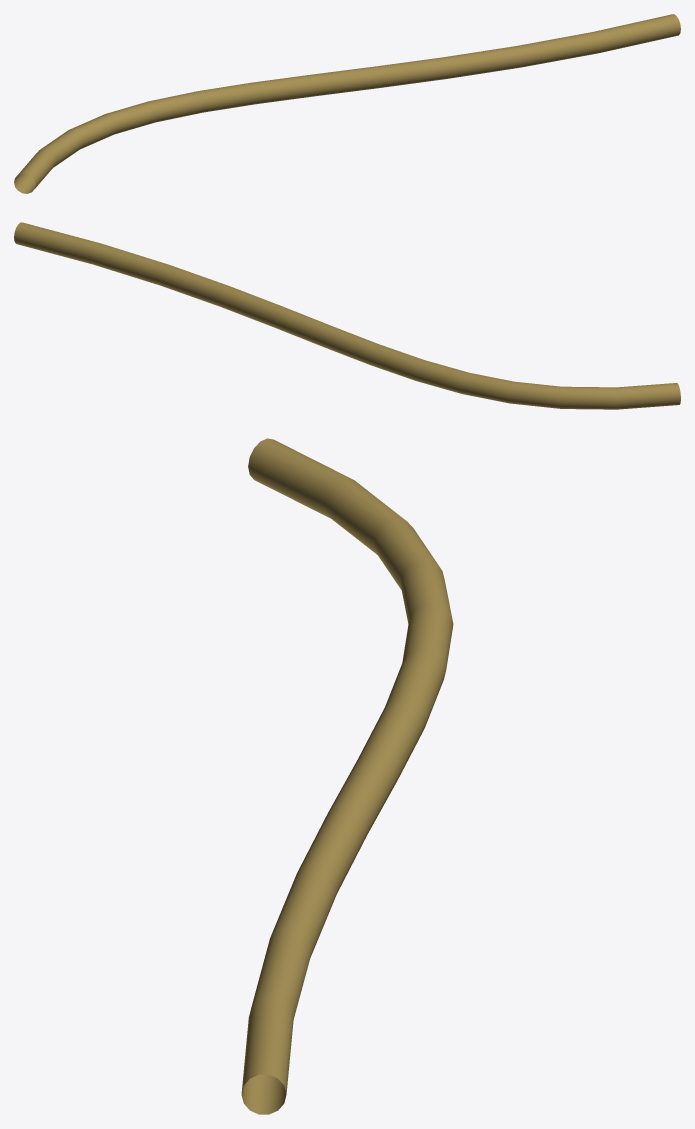
File: Driedbbanana1.fbx
3 renders of one model, top to bottom at view 1: azimuth 30°, elevation 25°; view 2: azimuth 150°, elevation 25°; view 3: azimuth 270°, elevation 25°, orthographic. The views are drawn at different scales.
Parts seen in each view (by area): view 1: BézierCurve; view 2: BézierCurve; view 3: BézierCurve.
Part boxes in pixels (box(x1,y1,x2,y2)): BézierCurve: box(14, 14, 680, 193); BézierCurve: box(14, 222, 680, 409); BézierCurve: box(241, 438, 453, 1114).
Size of the model in its own units: 37.11 by 1.07 by 5.18.
